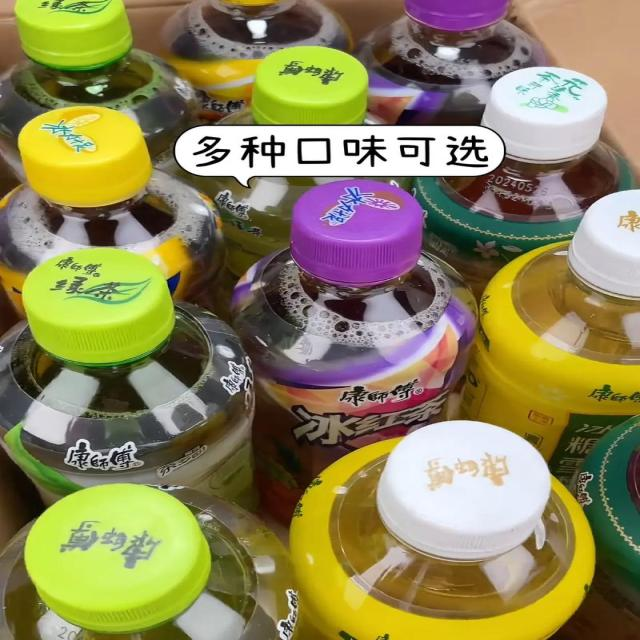bottle: (287, 419, 595, 640), (229, 177, 482, 429), (2, 246, 264, 484), (2, 483, 298, 640), (462, 188, 640, 424), (0, 104, 224, 258), (412, 64, 636, 188), (1, 1, 193, 107), (216, 45, 395, 124), (576, 415, 640, 620), (354, 0, 550, 66), (158, 1, 355, 45)
